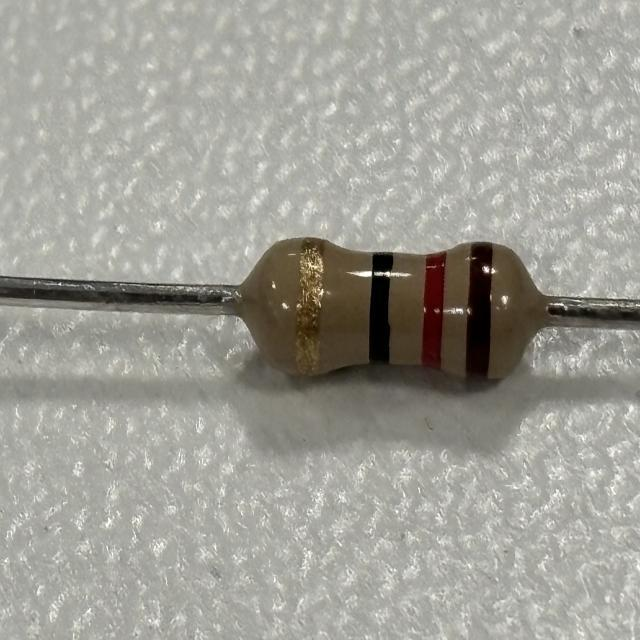resistor: (256, 232, 526, 390)
